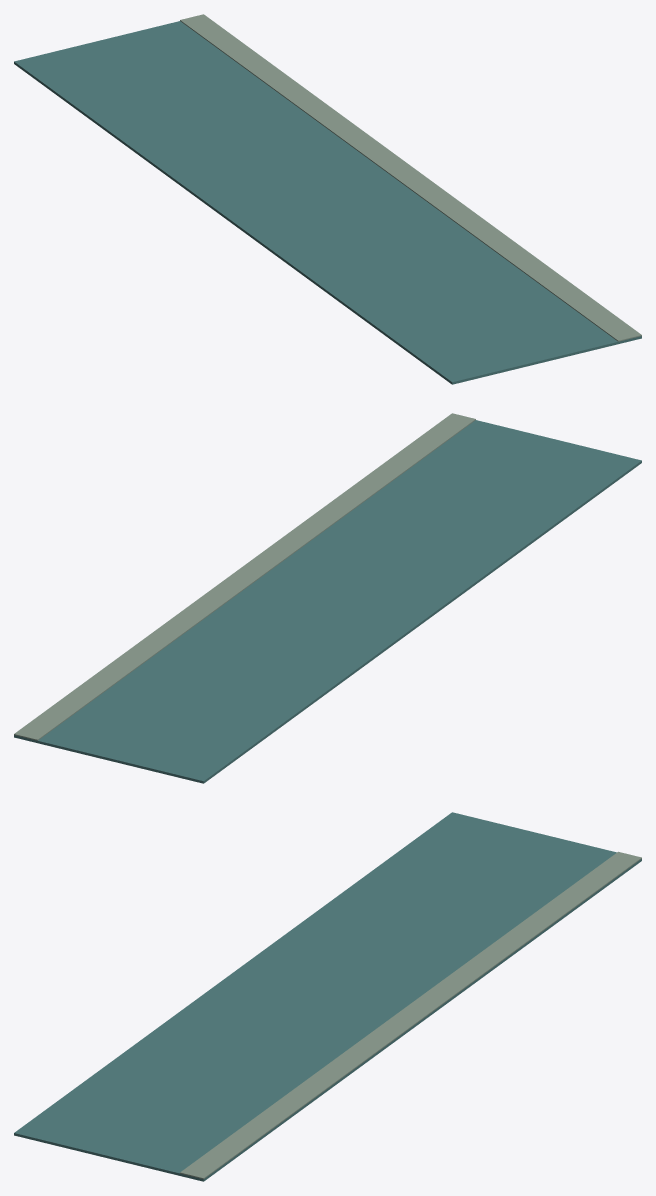
Rendered from city-river.glb.
3 renders of one model, top to bottom at view 1: azimuth 30°, elevation 25°; view 2: azimuth 150°, elevation 25°; view 3: azimuth 330°, elevation 25°, orthographic.
Parts seen in each view (by area): view 1: city-river; view 2: city-river; view 3: city-river.
Part boxes in pixels (box(x1,y1,x2,y2)): city-river: box(14, 14, 641, 384); city-river: box(14, 413, 641, 783); city-river: box(14, 812, 641, 1181).
Size of the model in its own units: 8 by 0.14 by 32.
